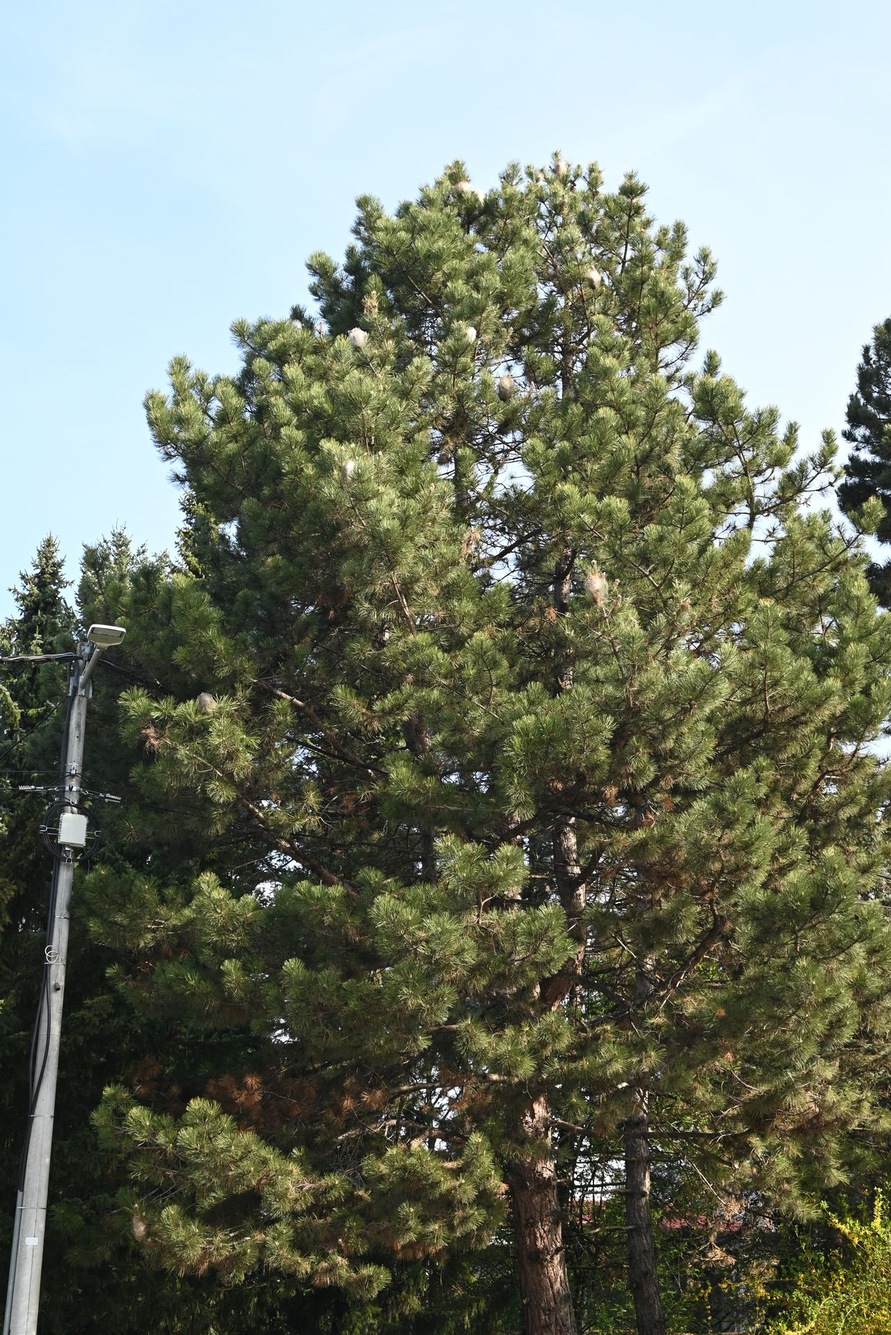thaumatopoea pityocampa jajno gnijezdo: (582, 571, 612, 610), (448, 318, 479, 348), (452, 174, 482, 203), (579, 260, 606, 292), (345, 321, 374, 350), (193, 690, 220, 719), (492, 372, 518, 397)
